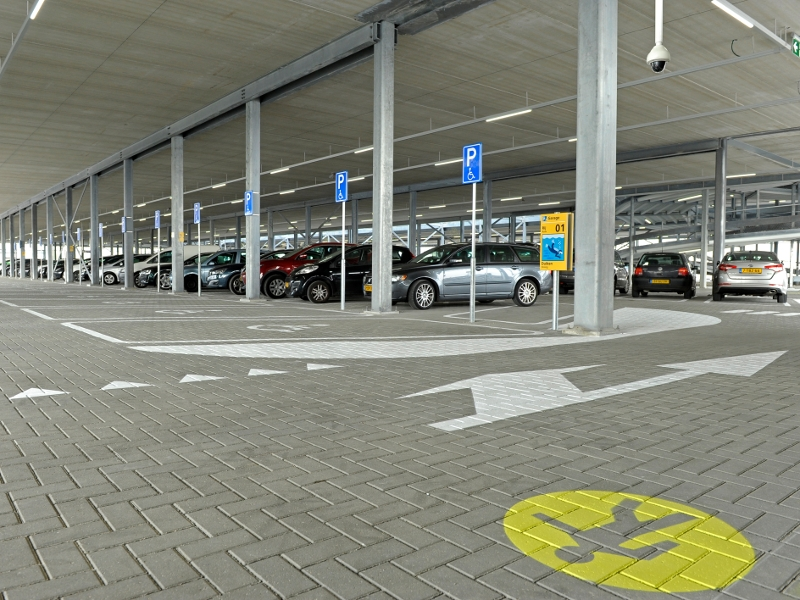empyt_space: (62, 316, 547, 346), (22, 300, 380, 321)
